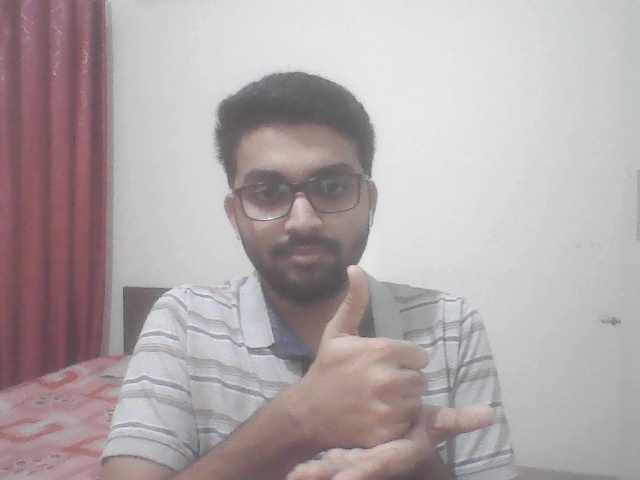help: (277, 244, 503, 480)
